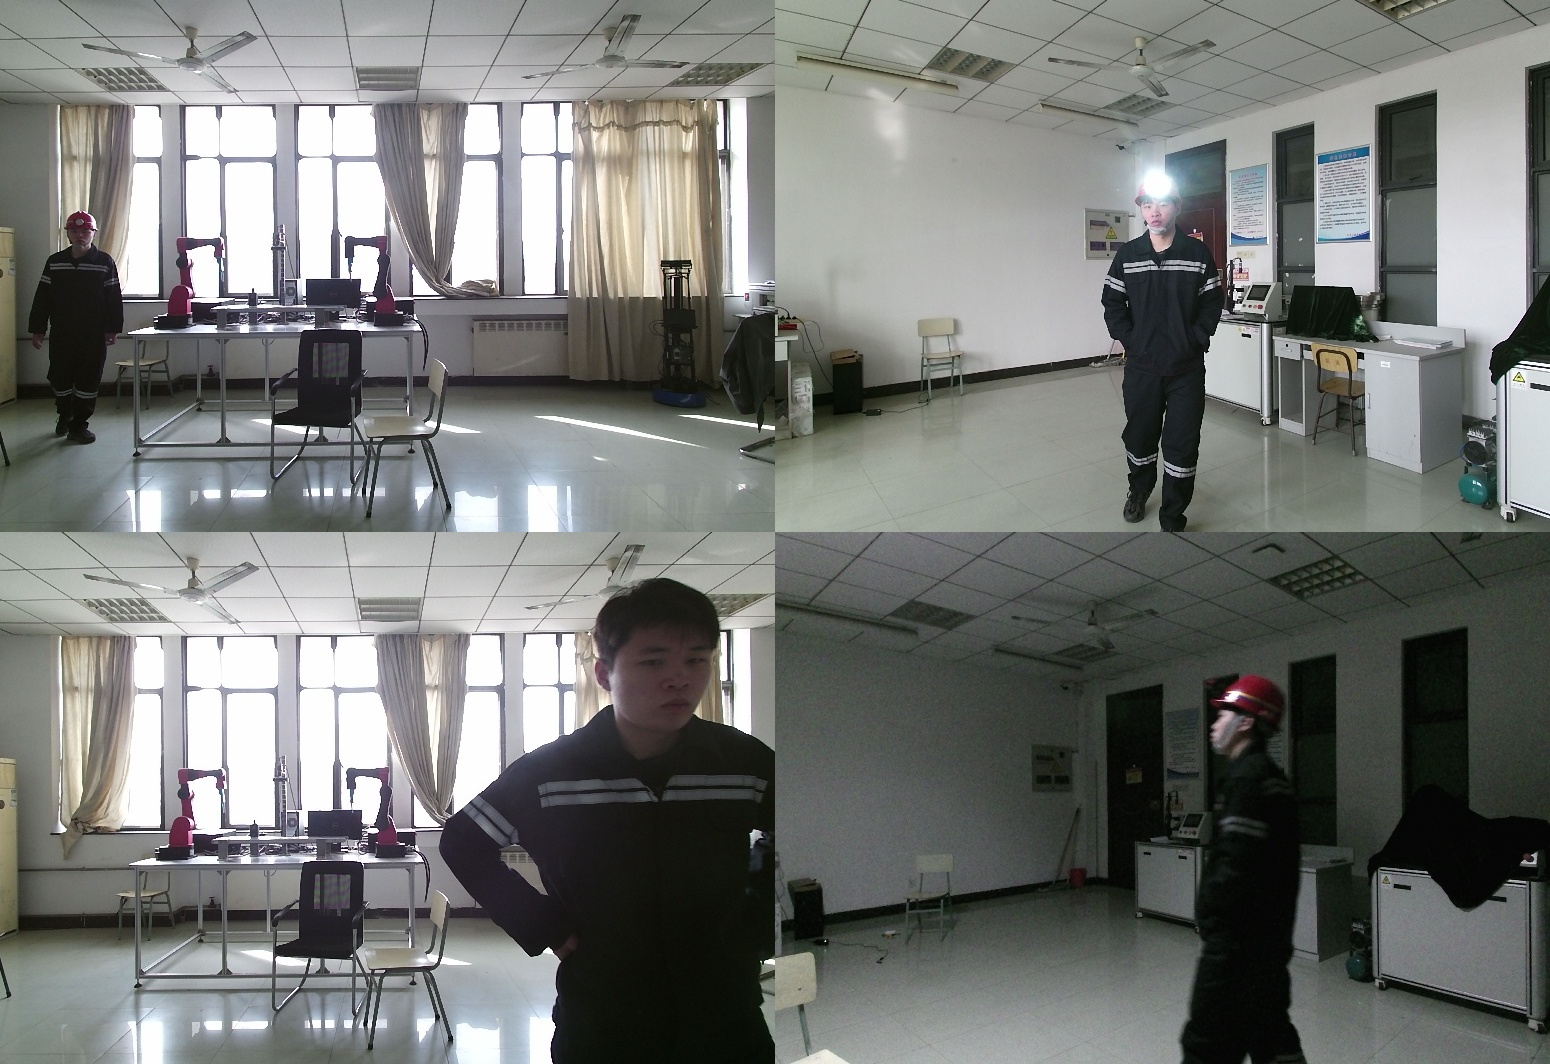person: (442, 581, 775, 1064), (1183, 670, 1330, 1064), (1096, 175, 1230, 532), (29, 212, 126, 445)
